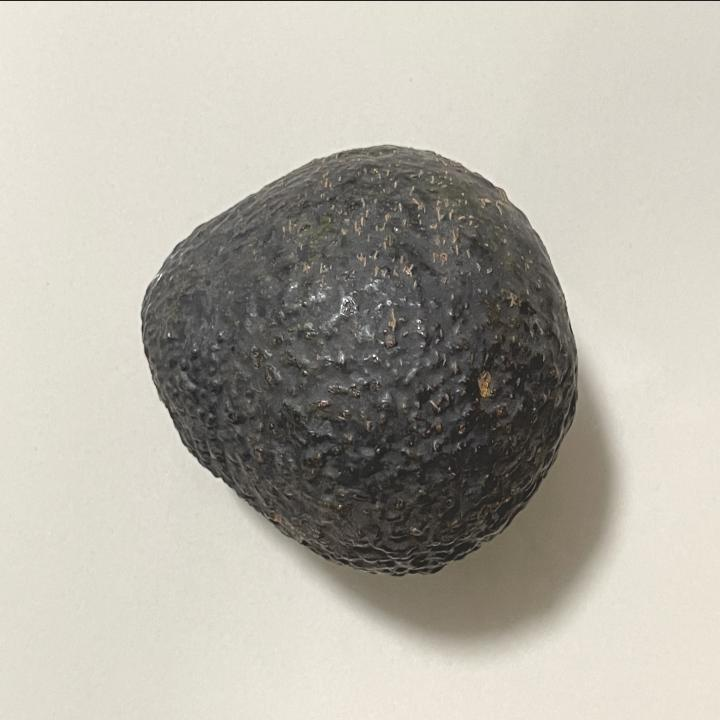Level3: (127, 132, 584, 586)
